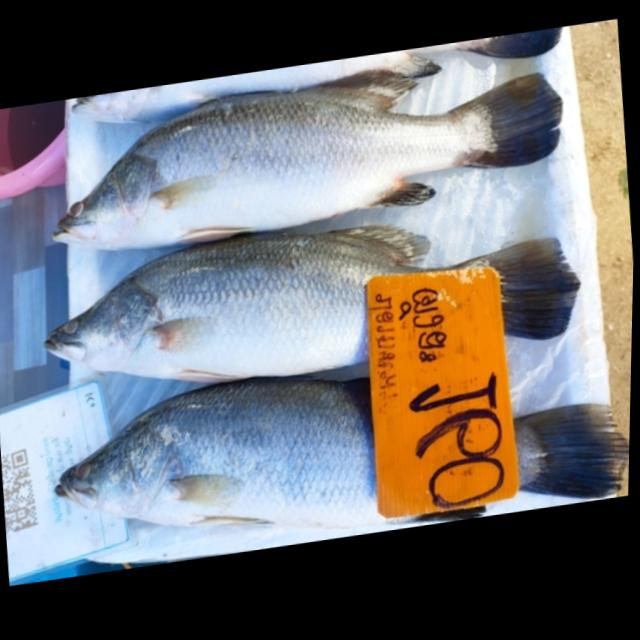Seabass: (41, 329, 632, 579), (35, 188, 585, 416), (40, 44, 571, 267)
